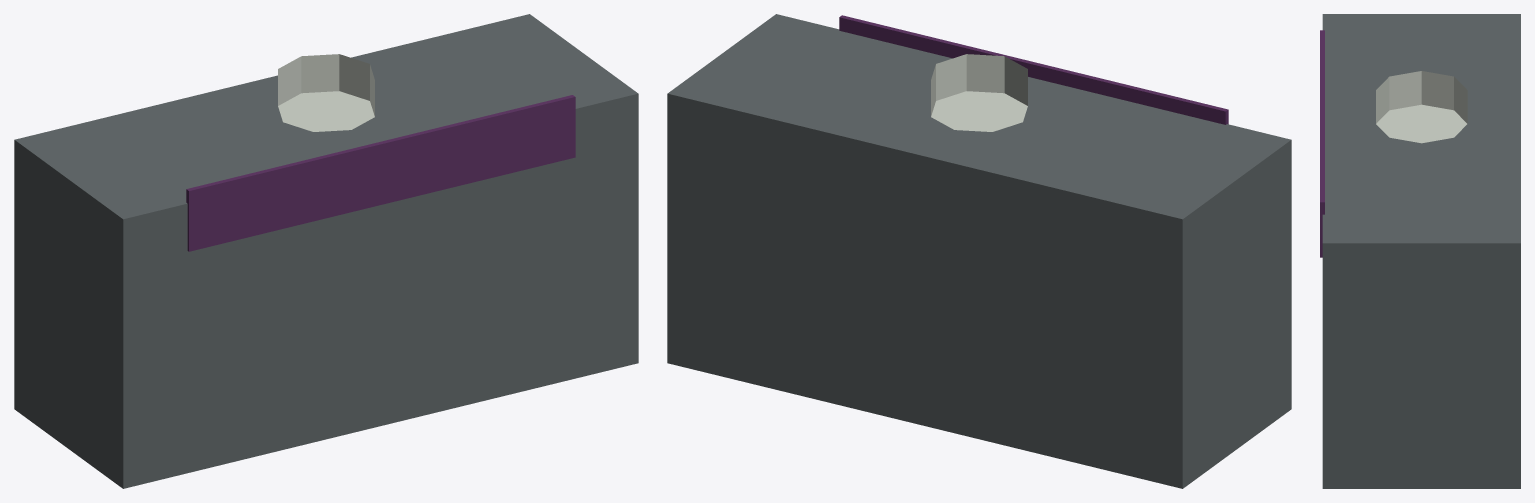
The model's file is meatcase.glb.
3 views of the same model, side by side, from view 1: azimuth 30°, elevation 25°; view 2: azimuth 150°, elevation 25°; view 3: azimuth 270°, elevation 25° (orthographic). The views are drawn at different scales.
Bounding box in the file's own units: 1.92 × 1.11 × 0.7109.
1 material, 1 textured.
